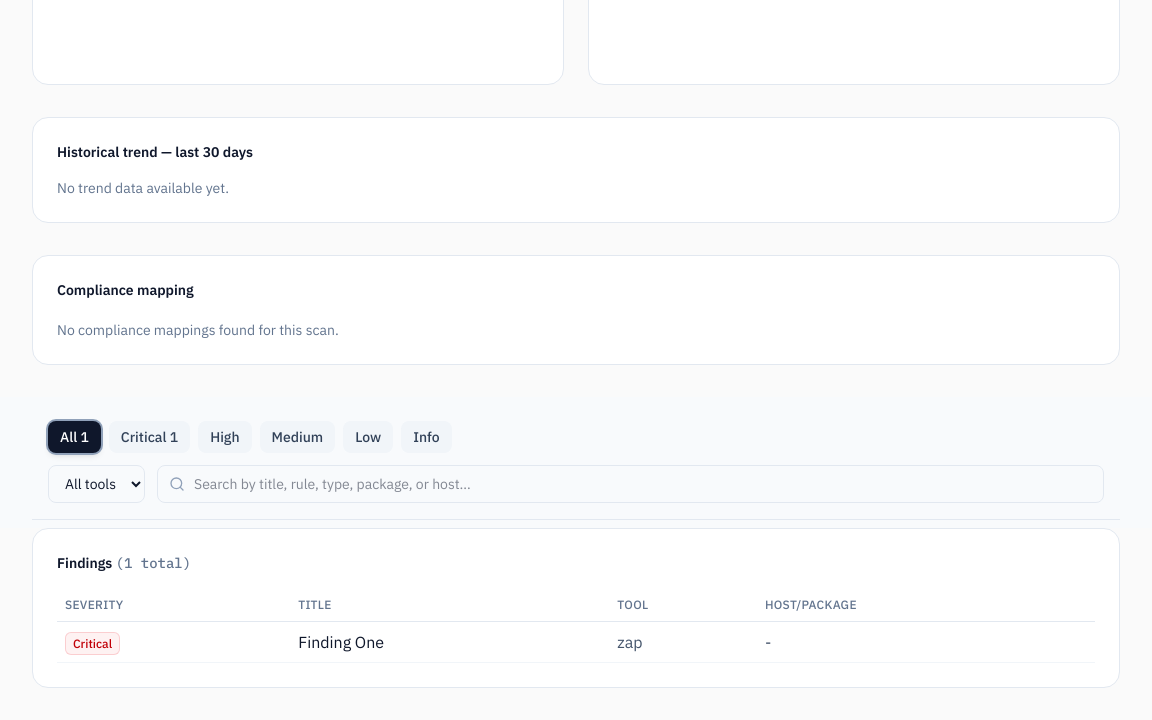
Test case: UnifiedReportPage › browser back closes the open finding panel before leaving the page
(page scrolled)
Click the text "Finding One".
click(341, 642)  # box [290, 622, 609, 662]
(page scrolled)
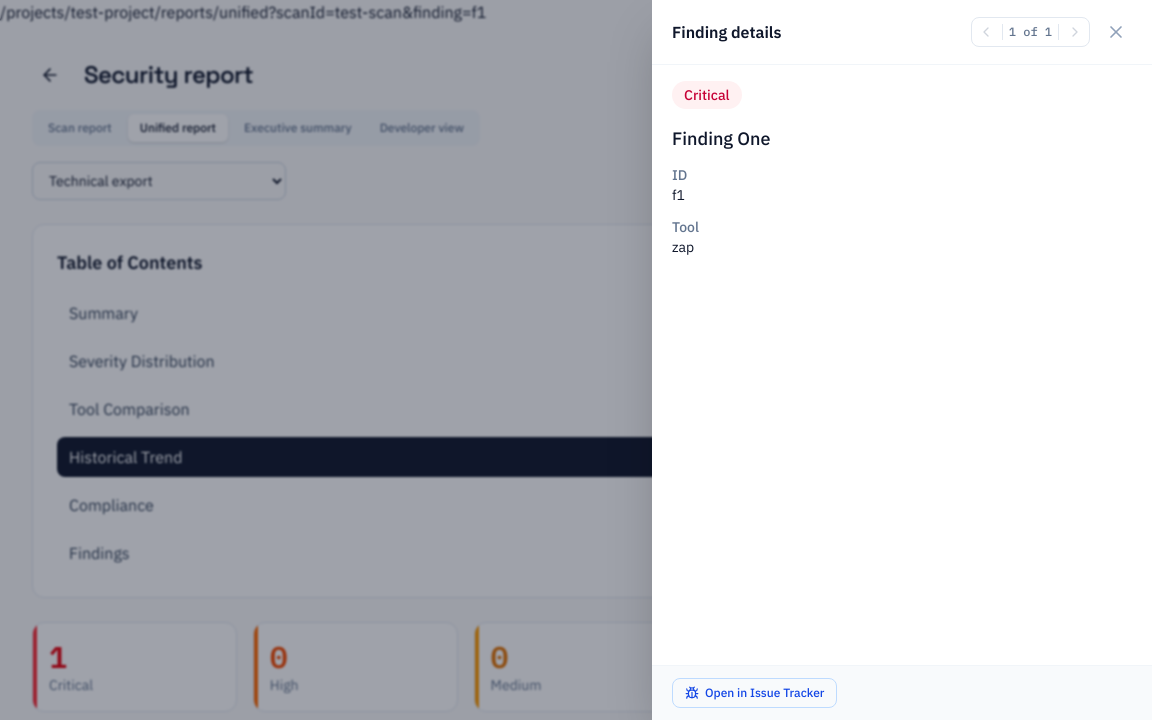
Result: the heading "Finding details" is shown at [672, 20, 782, 44]
Result: the text with test id "location-probe" shows "finding=f1" at [0, 2, 486, 22]
